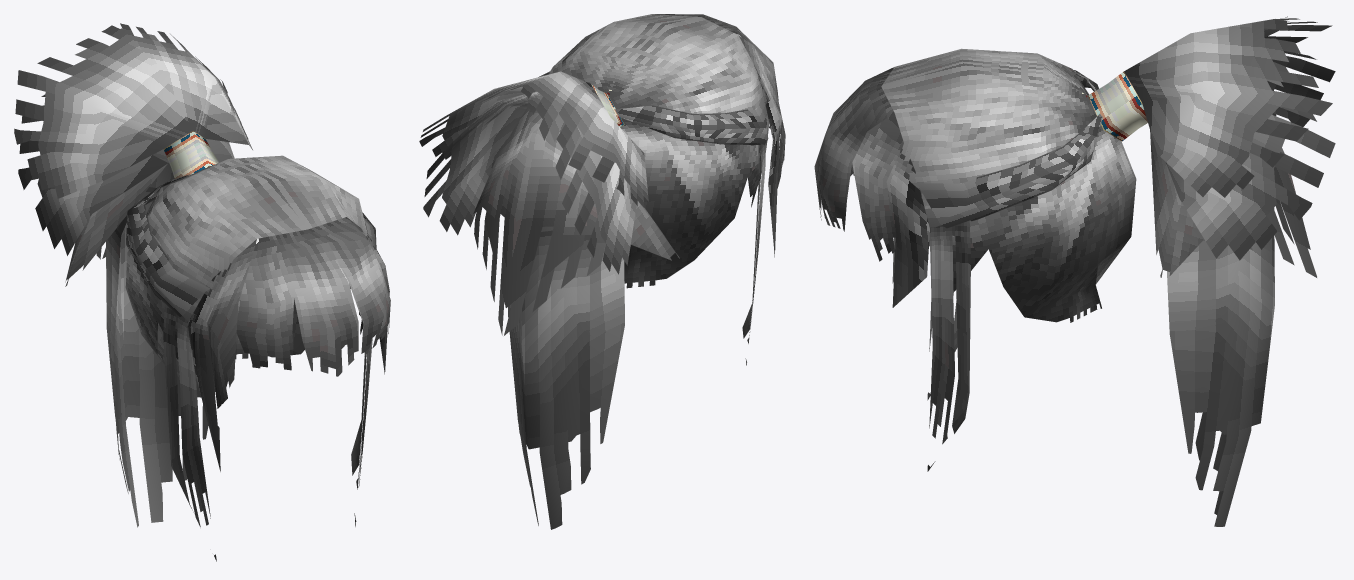
File: f_hair015.obj
The picture shows the model from 3 angles, left to right: view 1: azimuth 30°, elevation 25°; view 2: azimuth 150°, elevation 25°; view 3: azimuth 270°, elevation 25°; orthographic projection. The views are drawn at different scales.
Visible parts, largest first — view 1: editpl_f-0000-1918, editpl_f-0000-1919; view 2: editpl_f-0000-1918; view 3: editpl_f-0000-1918, editpl_f-0000-1919.
Boxes of the visible parts, box(x1,y1,x2,y2) form: editpl_f-0000-1918: box(14, 23, 390, 561); editpl_f-0000-1919: box(163, 131, 219, 178); editpl_f-0000-1918: box(419, 14, 785, 529); editpl_f-0000-1918: box(814, 16, 1335, 526); editpl_f-0000-1919: box(1088, 71, 1147, 141).
Bounding box in the file's own units: 21.5 × 44.67 × 38.51.
